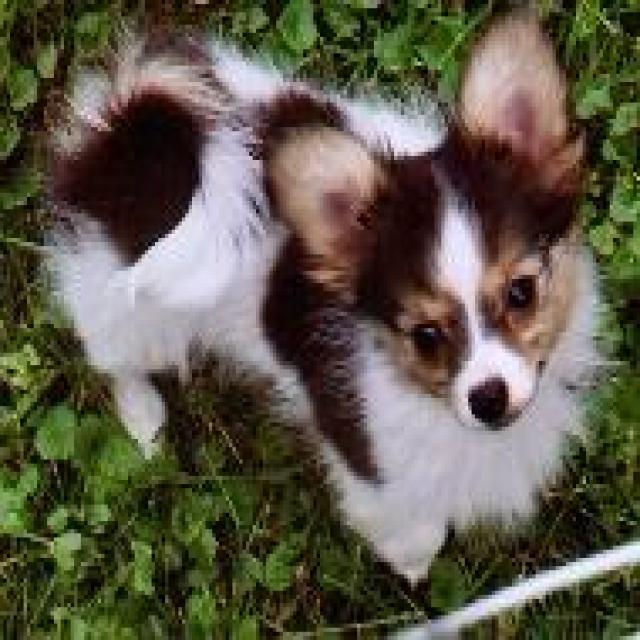papillon: (34, 12, 603, 612)
